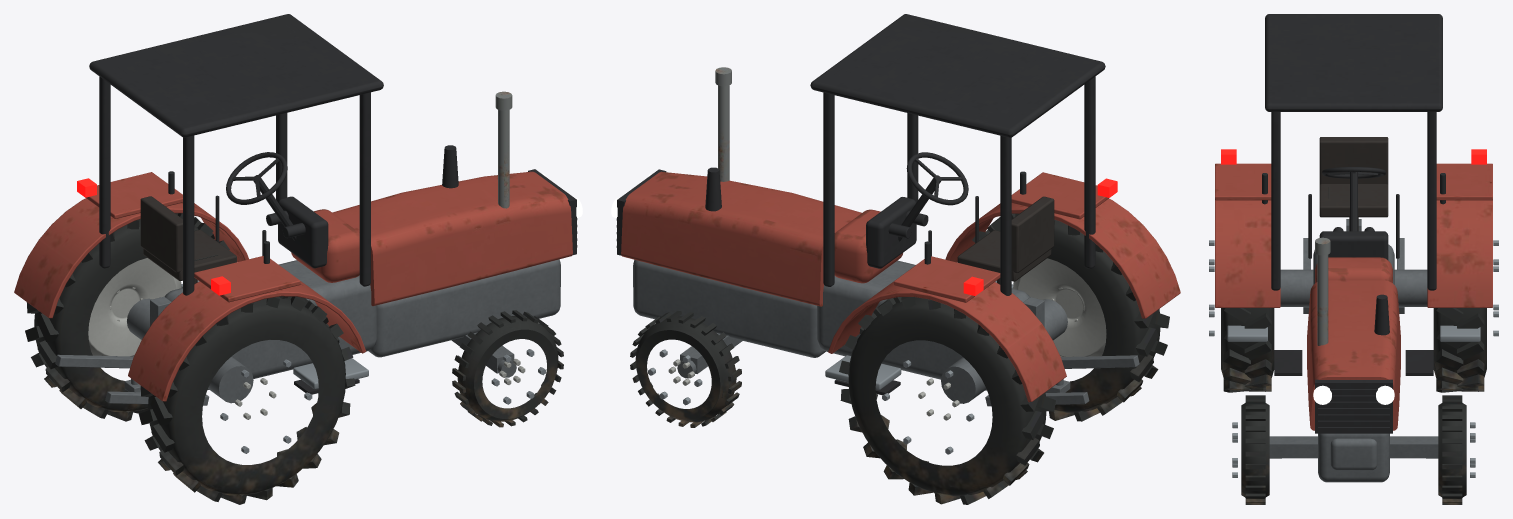
The model's file is tractor_rusty.glb.
3 renders of one model, left to right at view 1: azimuth 30°, elevation 25°; view 2: azimuth 150°, elevation 25°; view 3: azimuth 270°, elevation 25°, orthographic. The views are drawn at different scales.
Parts seen in each view (by area): view 1: CabFrame, Bonnet, Wheel3_Tyre, Mudguards, Castings, Wheel2_Tyre, Wheel1_Tyre, Wheel2_Rim, Seat, Dash, Tank, Hitch (+5 smaller); view 2: CabFrame, Bonnet, Wheel2_Tyre, Mudguards, Castings, Wheel3_Tyre, Wheel0_Tyre, Wheel3_Rim, Seat, Dash, Tank, Hitch (+5 smaller); view 3: CabFrame, Mudguards, Bonnet, Castings, Seat, Wheel3_Tyre, Wheel2_Tyre, Grille, Wheel0_Tyre, Wheel1_Tyre, Dash, Tank (+10 smaller).
Part boxes in pixels (x1,y1,x2,y2): CabFrame: [89, 14, 383, 295]; Bonnet: [332, 171, 572, 305]; Wheel3_Tyre: [138, 296, 355, 504]; Mudguards: [14, 172, 366, 401]; Castings: [127, 259, 560, 403]; Wheel2_Tyre: [25, 213, 229, 421]; Wheel1_Tyre: [452, 310, 563, 427]; Wheel2_Rim: [88, 258, 181, 356]; Seat: [140, 196, 236, 283]; Dash: [215, 195, 328, 268]; Tank: [291, 209, 359, 282]; Hitch: [55, 296, 209, 405]; CabFrame: [810, 14, 1105, 295]; Bonnet: [621, 171, 861, 306]; Wheel2_Tyre: [839, 297, 1055, 504]; Mudguards: [828, 172, 1180, 402]; Castings: [633, 259, 1067, 403]; Wheel3_Tyre: [972, 213, 1169, 421]; Wheel0_Tyre: [630, 311, 741, 427]; Wheel3_Rim: [1013, 258, 1106, 356]; Seat: [957, 196, 1054, 284]; Dash: [866, 196, 978, 268]; Tank: [834, 209, 902, 283]; Hitch: [985, 297, 1139, 406]; CabFrame: [1265, 14, 1442, 290]; Mudguards: [1215, 163, 1492, 307]; Bonnet: [1307, 280, 1400, 430]; Castings: [1269, 244, 1438, 482]; Seat: [1319, 137, 1388, 231]; Wheel3_Tyre: [1221, 308, 1274, 392]; Wheel2_Tyre: [1433, 308, 1486, 392]; Grille: [1315, 379, 1392, 433]; Wheel0_Tyre: [1438, 395, 1466, 504]; Wheel1_Tyre: [1241, 395, 1269, 504]; Dash: [1308, 194, 1399, 260]; Tank: [1315, 257, 1392, 282].
Size of the model in its own units: 3.31 by 2.44 by 1.86.
17 materials, 13 textured.
